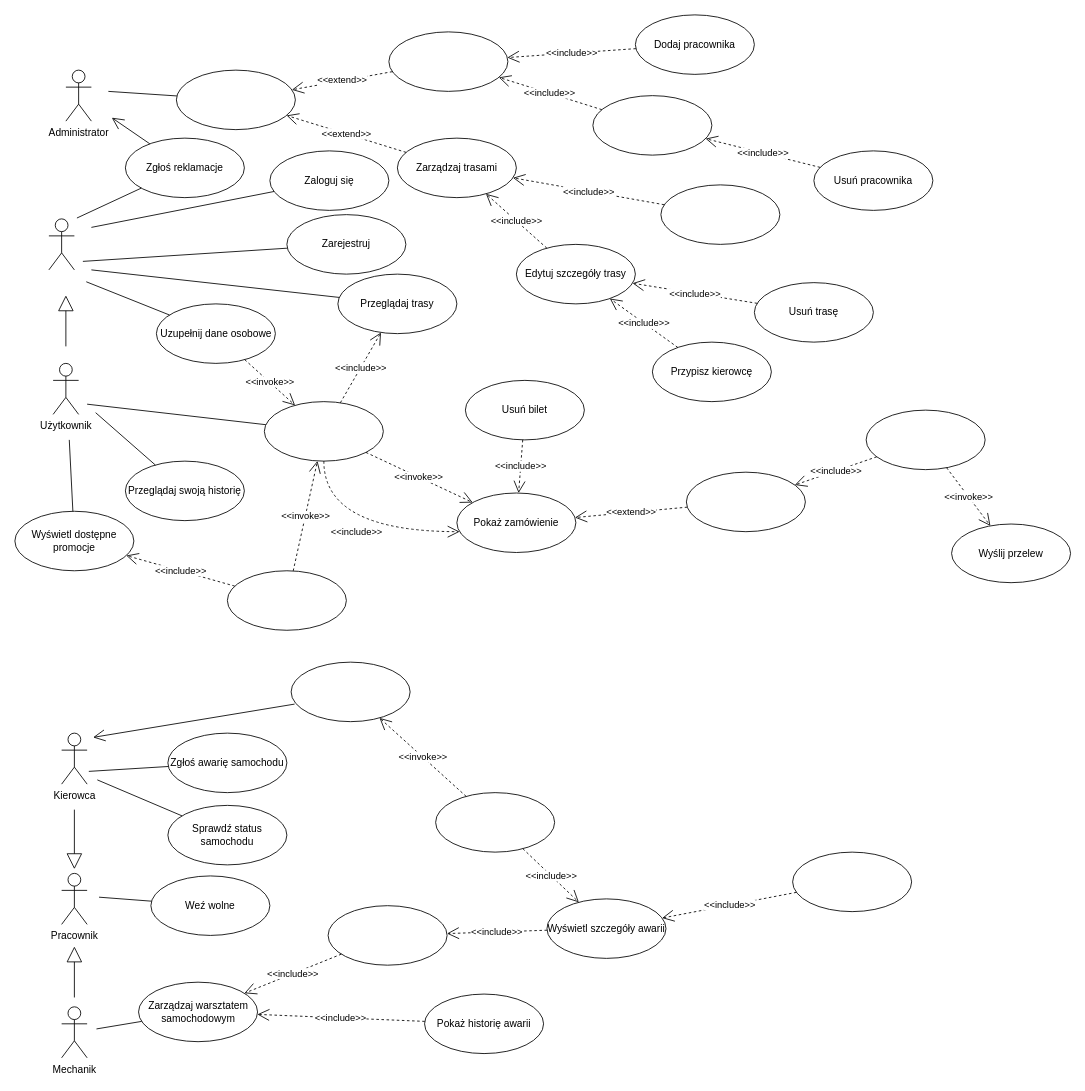
Some shapes in this 1085 by 1091 pixel diagram are drawn without their labels. The centre of each missing label's shape, as x and y in pixels:
"Dodaj opis" goes at (x=852, y=881).
"Dodaj trasę" goes at (x=720, y=214).
"Edytuj szczegóły pracownika" goes at (x=652, y=125).
"Finalizuj transakcje" goes at (x=925, y=439).
"Gość" goes at (x=61, y=244).
"Kup bilet" goes at (x=323, y=431).
"Oznacz jako naprawione" goes at (x=495, y=822).
"Pokaż listę awarii" goes at (x=387, y=935).
"Wykorzystaj promocje" goes at (x=286, y=600).
"Wyślij powiadomienie o naprawie" goes at (x=350, y=691).
"Zarządzaj kontami" goes at (x=448, y=61).
"Zarządzaj płatnościami" goes at (x=745, y=501).
"Zarządzaj systemem" goes at (x=235, y=99).
